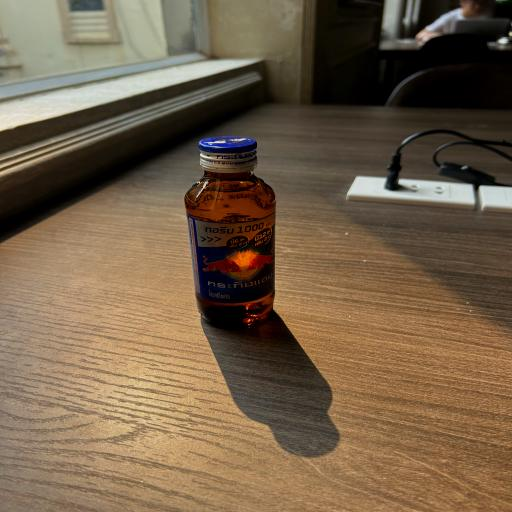bo_huc: (182, 136, 279, 331)
